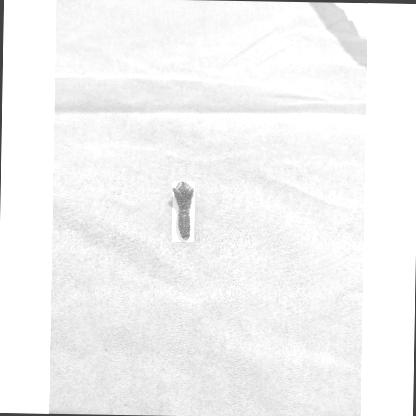sedang: (173, 181, 194, 242)
